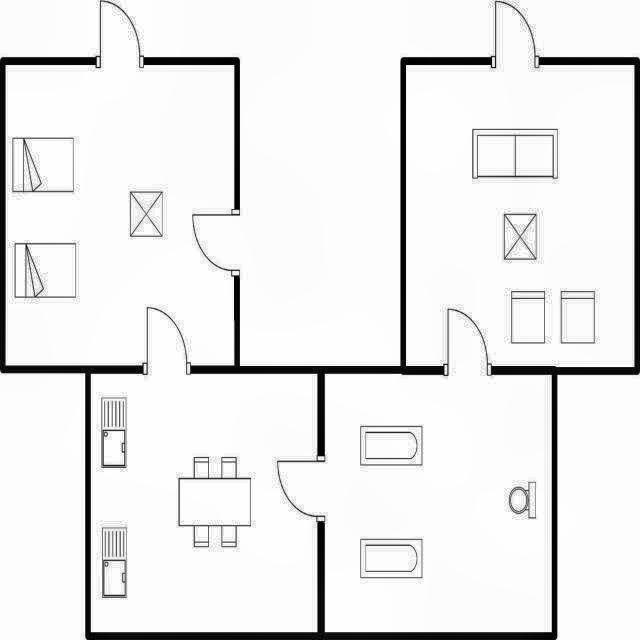room: (406, 64, 633, 366), (6, 65, 234, 364), (325, 374, 552, 632), (91, 374, 318, 632)
